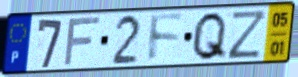2: (110, 12, 143, 66)
7: (37, 17, 64, 70)
F: (62, 14, 104, 69), (147, 13, 185, 65)
Q: (189, 10, 229, 63)
Z: (226, 8, 269, 61)
